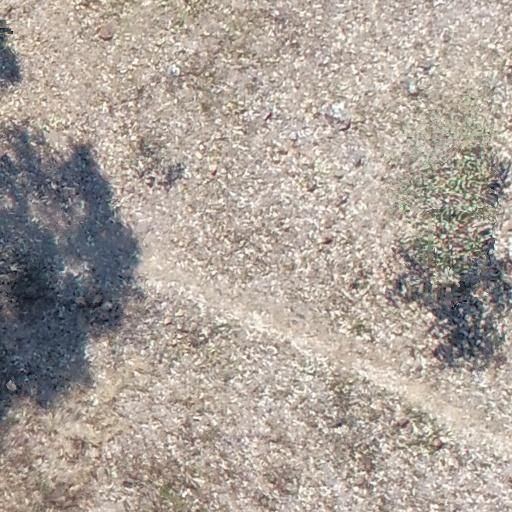stone: (320, 103, 356, 131), (94, 20, 117, 42), (84, 292, 104, 306), (407, 80, 421, 96), (144, 174, 158, 190), (99, 298, 115, 312), (335, 194, 349, 209), (4, 379, 17, 393), (167, 64, 181, 77), (353, 154, 365, 169), (305, 181, 319, 193), (440, 30, 452, 43), (319, 235, 333, 246), (270, 9, 280, 18)
